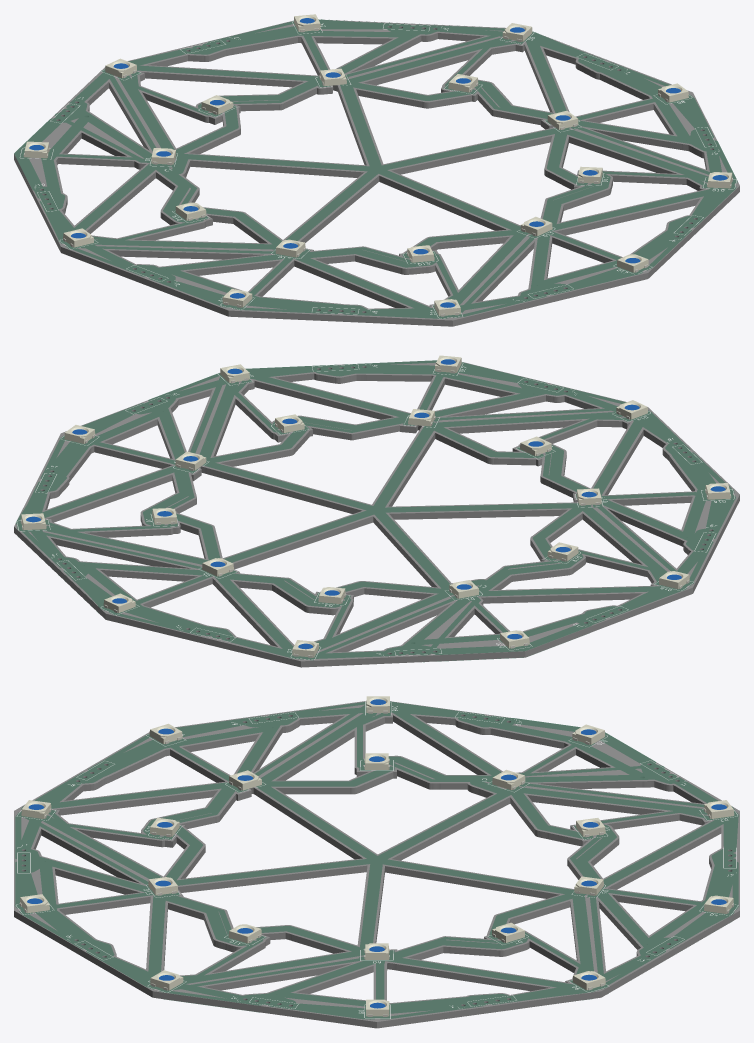
The picture shows the model from 3 angles, top to bottom: view 1: azimuth 30°, elevation 25°; view 2: azimuth 150°, elevation 25°; view 3: azimuth 270°, elevation 25°; orthographic projection. The views are drawn at different scales.
Parts seen in each view (by area): view 1: =>[0:1:1:5], =>[0:1:1:4], =>[0:1:1:3]; view 2: =>[0:1:1:5], =>[0:1:1:4], =>[0:1:1:3]; view 3: =>[0:1:1:5], =>[0:1:1:4], =>[0:1:1:3].
Boxes of the visible parts, <box> form: =>[0:1:1:5]: <box>14,19,739,326</box>; =>[0:1:1:4]: <box>14,19,737,318</box>; =>[0:1:1:3]: <box>19,21,736,318</box>; =>[0:1:1:5]: <box>14,361,739,667</box>; =>[0:1:1:4]: <box>16,360,735,662</box>; =>[0:1:1:3]: <box>16,362,734,659</box>; =>[0:1:1:5]: <box>14,701,739,1028</box>; =>[0:1:1:4]: <box>14,701,738,1019</box>; =>[0:1:1:3]: <box>15,701,738,1018</box>.
Bounding box in the file's own units: 0.1617 × 0.00337 × 0.1538.
